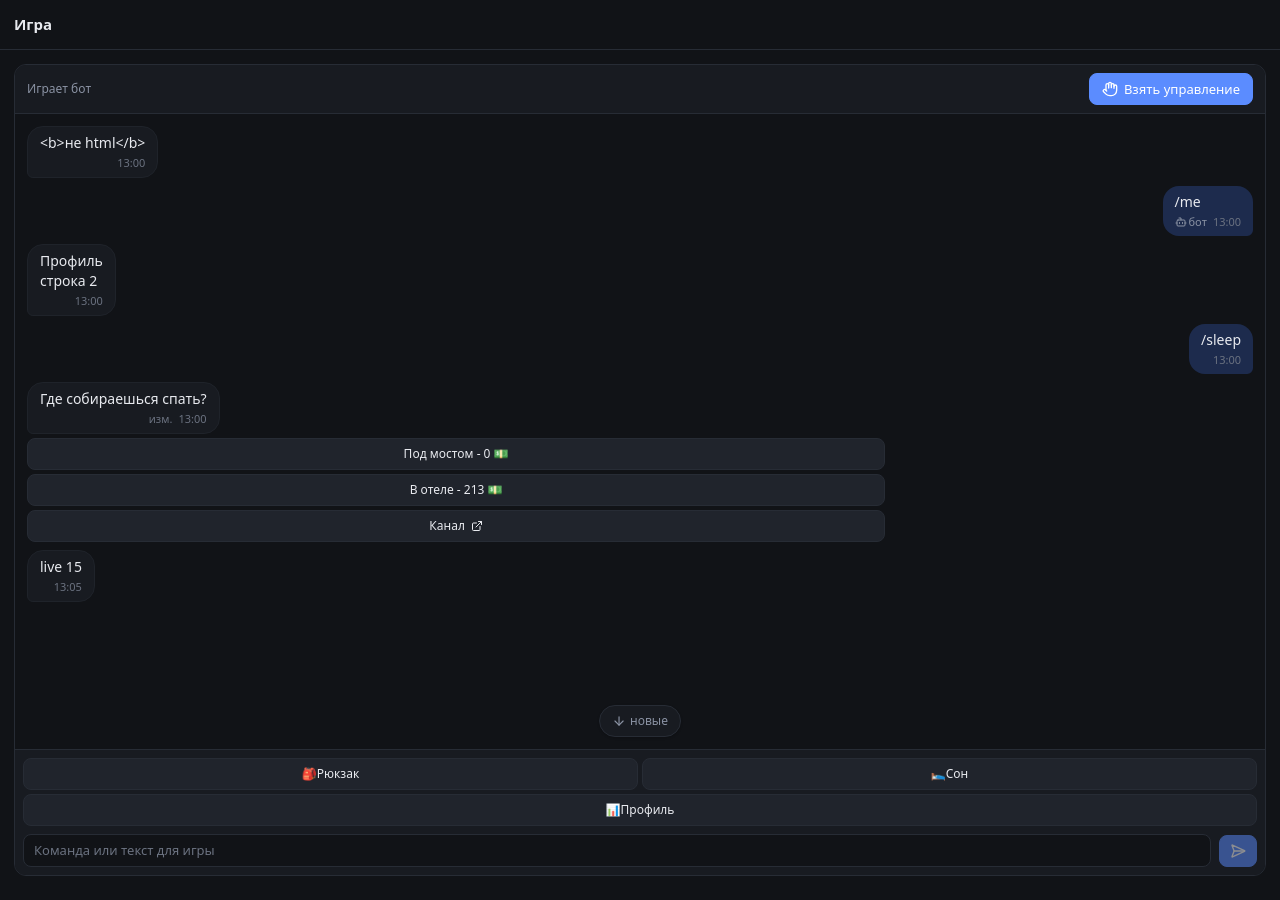
Scenario: Игра: чат › новое, пока чат прокручен вверх, — значок «новые», по нему вниз
This screenshot has width=1280, height=900.
(page scrolled)
Expected: the text "Где собираешься спать?" is shown, [40,389,206,409]
Click the button "новые".
click(640, 721)  # box [599,705,681,737]
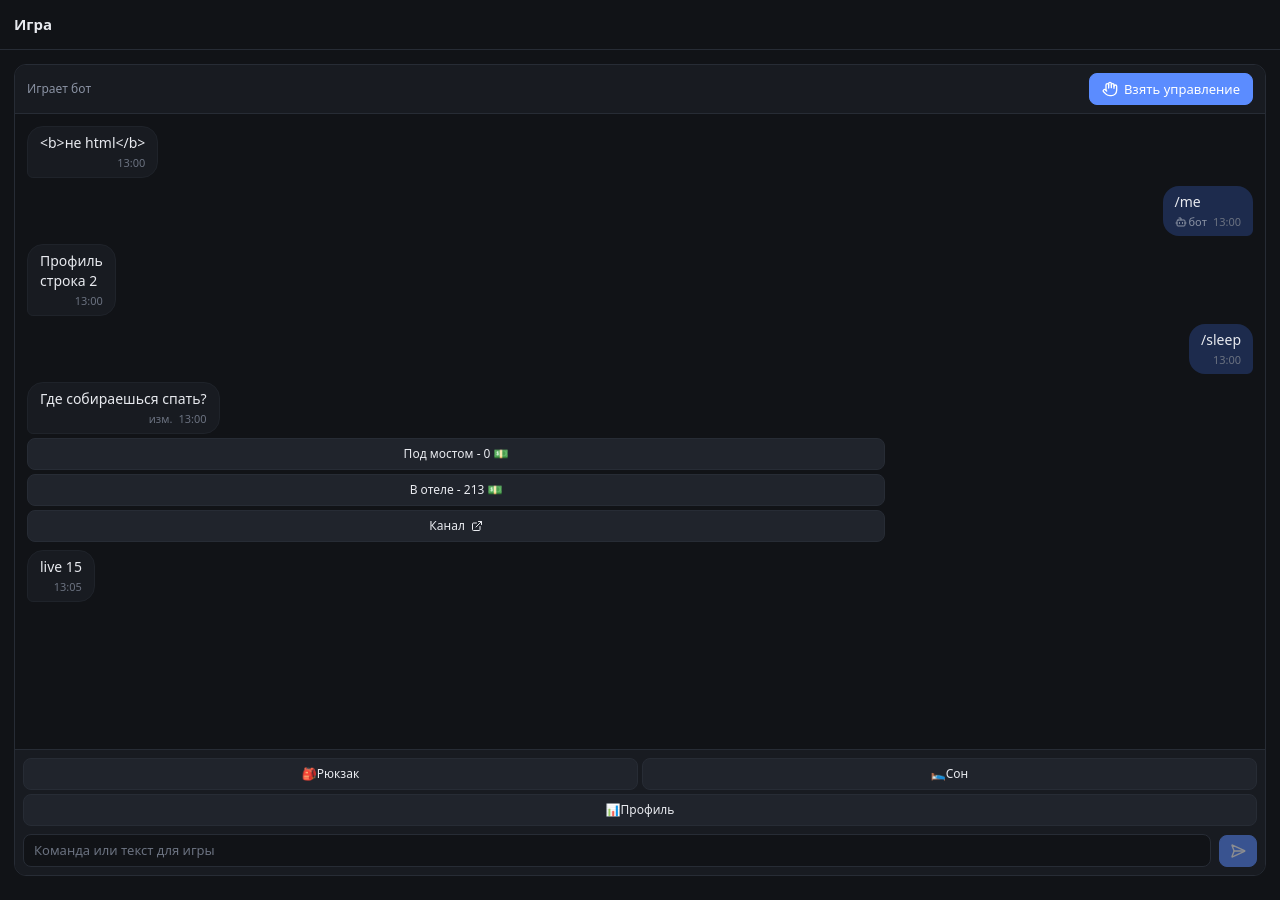
Expected: the button "новые" is gone
